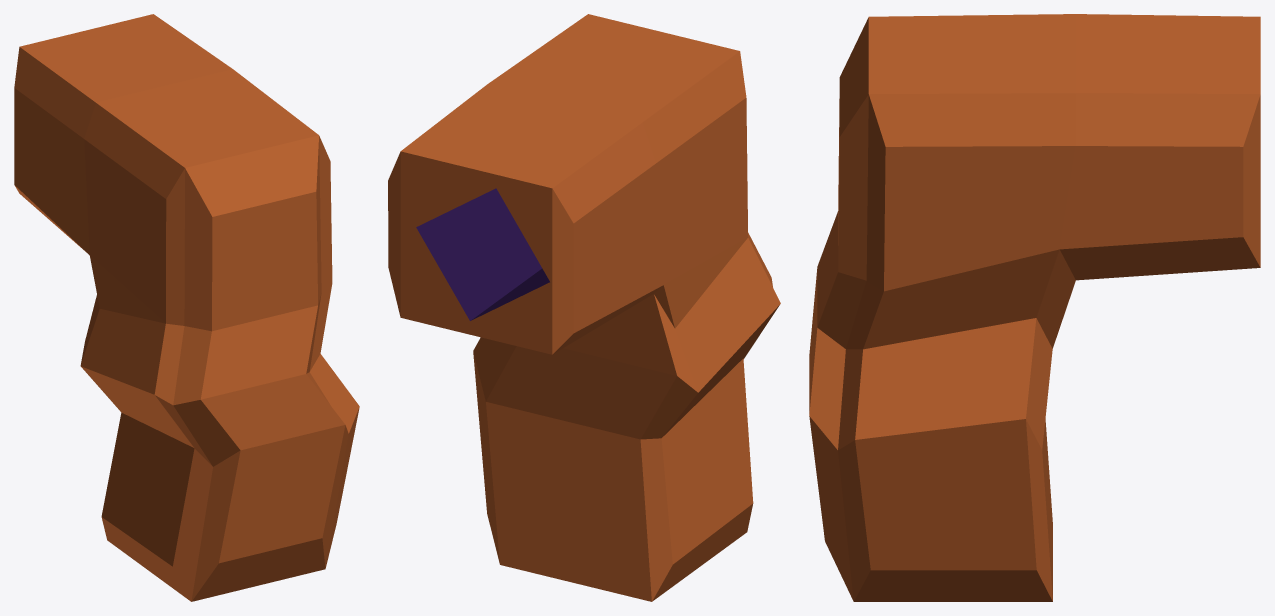
File: port.glb
The picture shows the model from 3 angles, left to right: view 1: azimuth 30°, elevation 25°; view 2: azimuth 150°, elevation 25°; view 3: azimuth 270°, elevation 25°; orthographic projection. The views are drawn at different scales.
Parts seen in each view (by area): view 1: Port; view 2: Port; view 3: Port.
Part boxes in pixels (x1=…): Port: x1=14, y1=14, x2=359, y2=601; Port: x1=388, y1=14, x2=780, y2=601; Port: x1=809, y1=14, x2=1260, y2=601.
Bounding box in the file's own units: 3.29 × 6.67 × 5.36.
